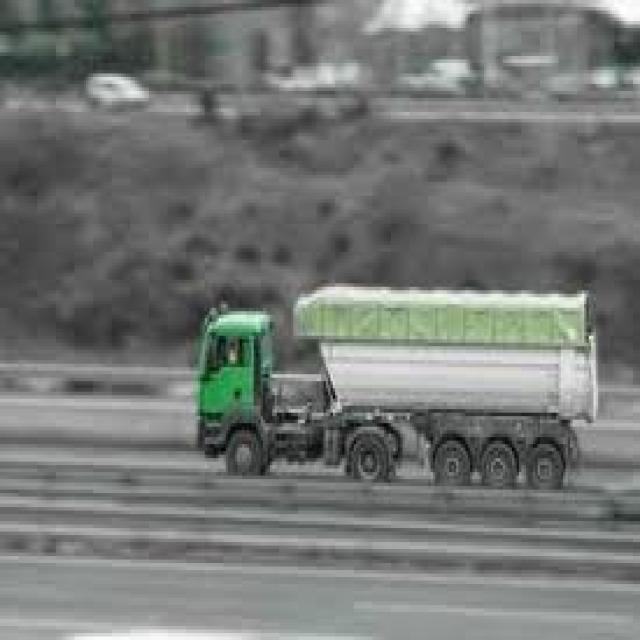covered: (190, 276, 600, 490)
